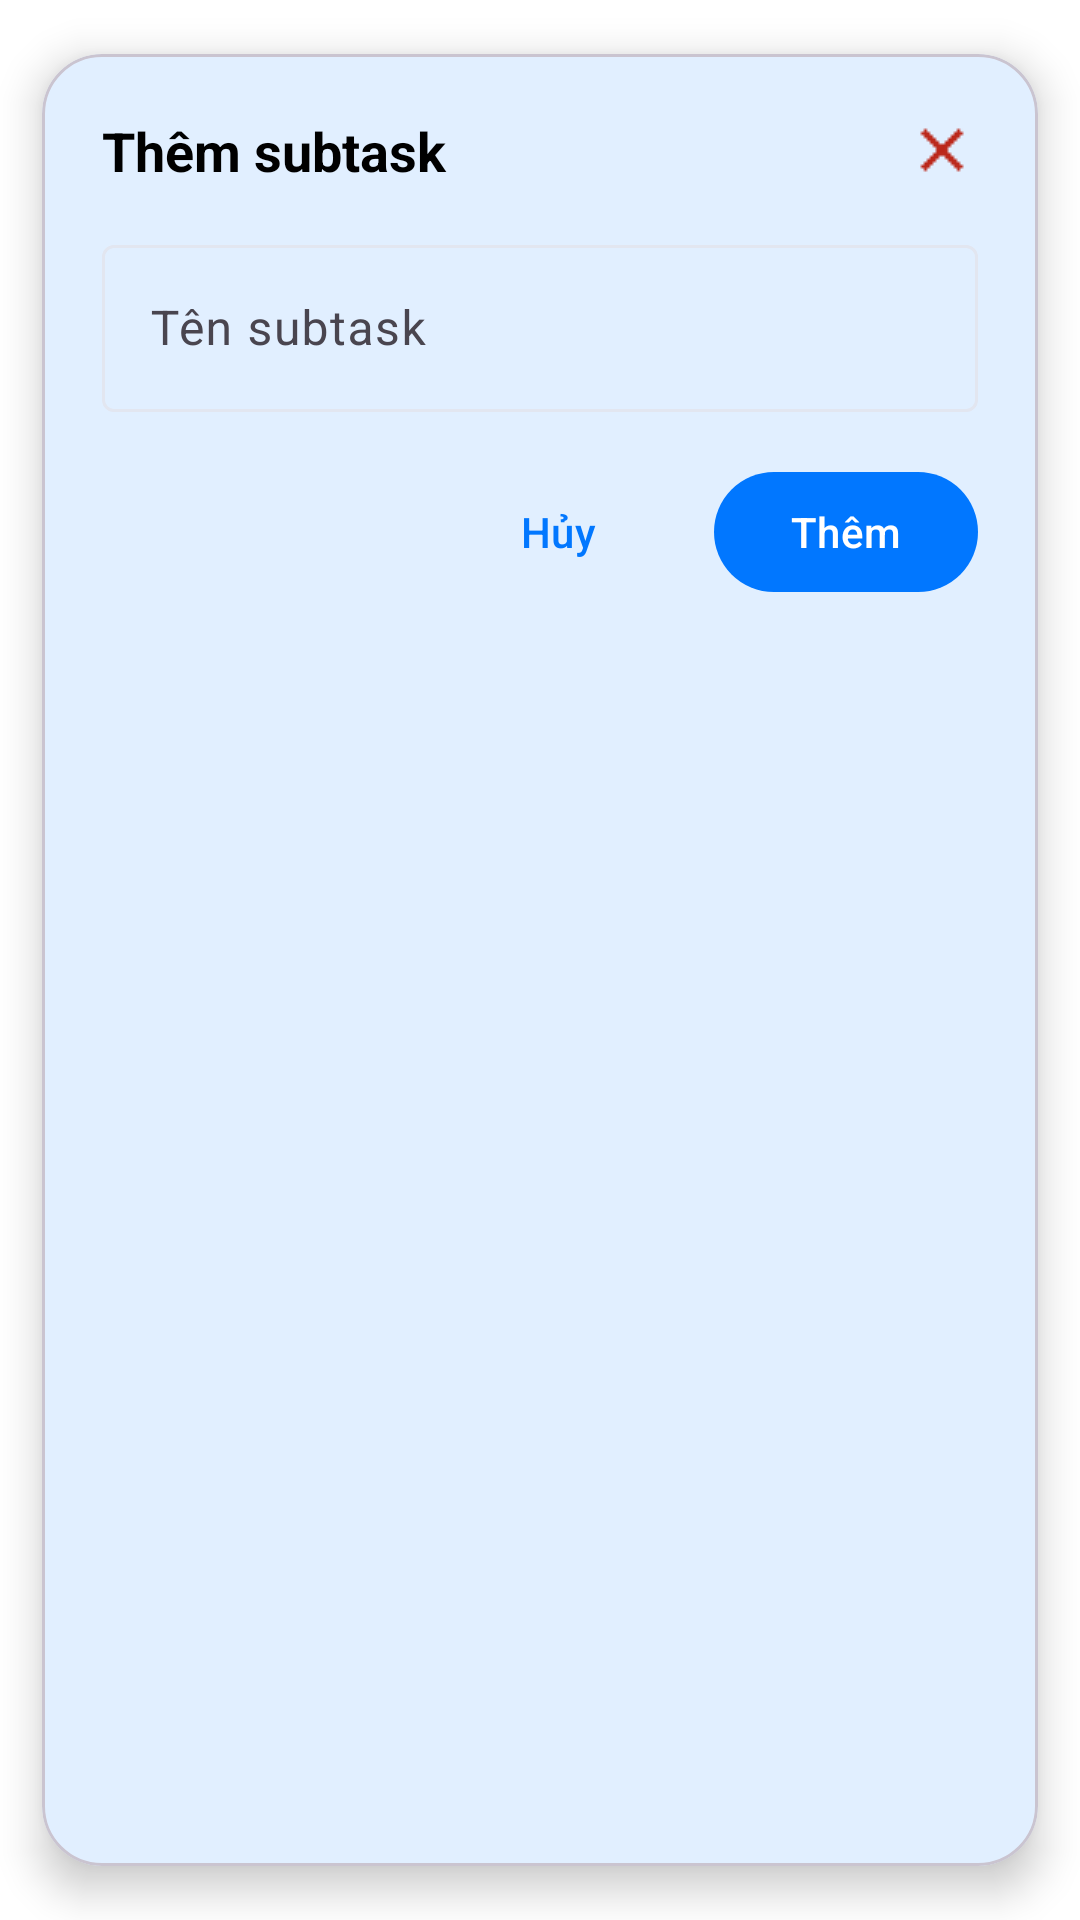

Locate icon controls on the screen. Image size 1080×1920, boxes as (x1, y1, x2, y2).
close: (920, 128, 964, 172)
